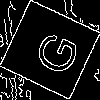G: (24, 24, 82, 79)
